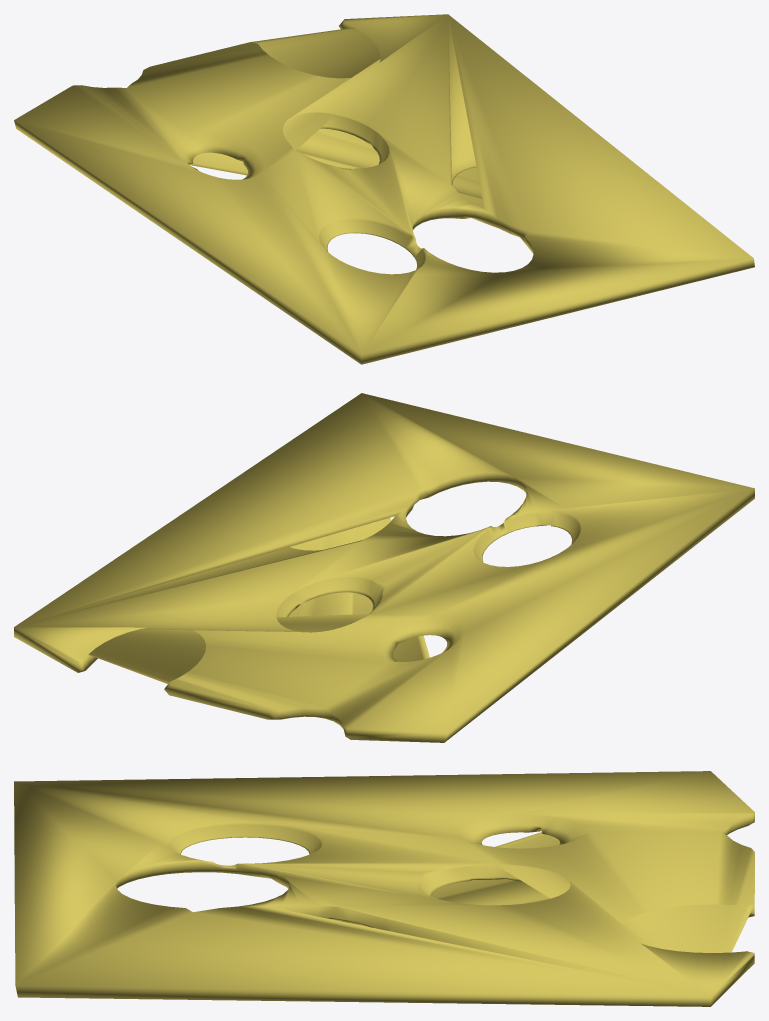
The model's file is cheese_slice.fbx.
3 renders of one model, top to bottom at view 1: azimuth 30°, elevation 25°; view 2: azimuth 150°, elevation 25°; view 3: azimuth 270°, elevation 25°, orthographic. The views are drawn at different scales.
Visible parts, largest first — view 1: Cheese Slice; view 2: Cheese Slice; view 3: Cheese Slice.
Part boxes in pixels (x1,y1,x2,y2): Cheese Slice: (14,14,754,364); Cheese Slice: (14,393,754,742); Cheese Slice: (14,771,754,1006).
Size of the model in its own units: 0.36 by 0.00881 by 0.5.
